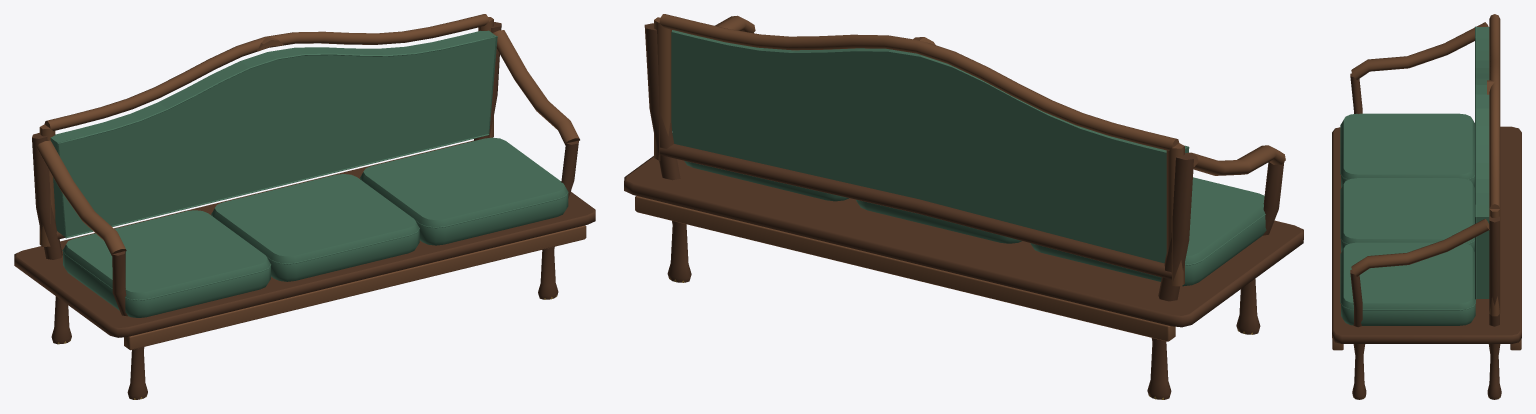
Rendered from rpg-mansion-camelback-settee-three-01.glb.
The picture shows the model from 3 angles, left to right: view 1: azimuth 30°, elevation 25°; view 2: azimuth 150°, elevation 25°; view 3: azimuth 270°, elevation 25°; orthographic projection. The views are drawn at different scales.
Visible parts, largest first — view 1: rpg-mansion-camelback-settee-three-01; view 2: rpg-mansion-camelback-settee-three-01; view 3: rpg-mansion-camelback-settee-three-01.
Boxes of the visible parts, x1,y1,x2,y2 form: rpg-mansion-camelback-settee-three-01: [14, 14, 595, 399]; rpg-mansion-camelback-settee-three-01: [624, 14, 1303, 399]; rpg-mansion-camelback-settee-three-01: [1332, 14, 1521, 399].
Size of the model in its own units: 2.1 by 1.05 by 0.8.
